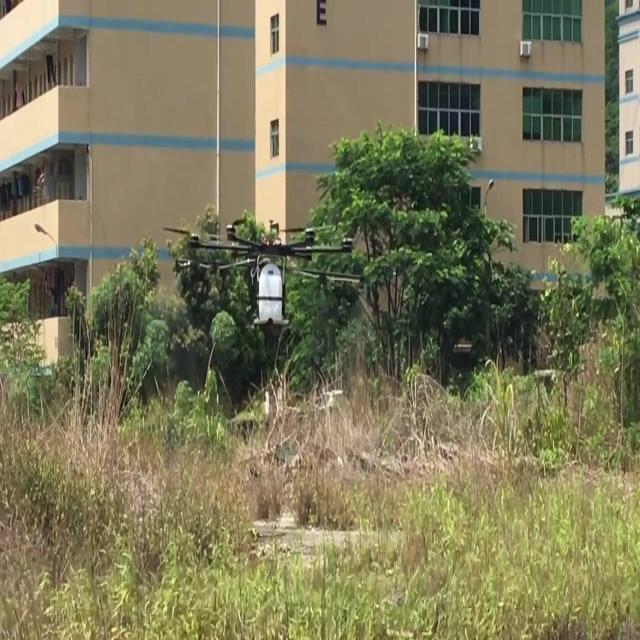drone: (164, 218, 368, 334)
